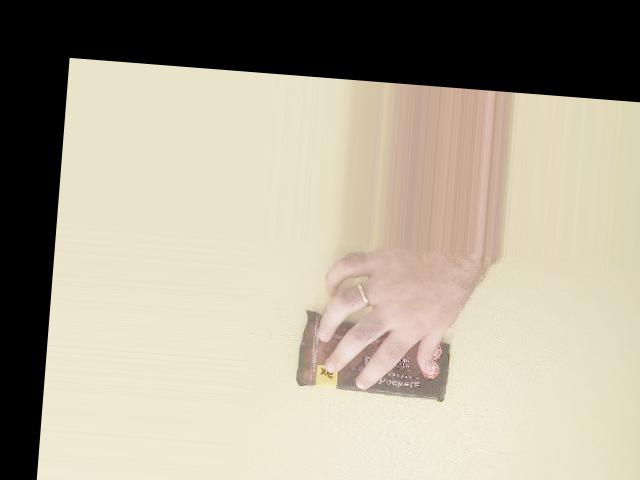chocolate: (292, 311, 457, 404)
